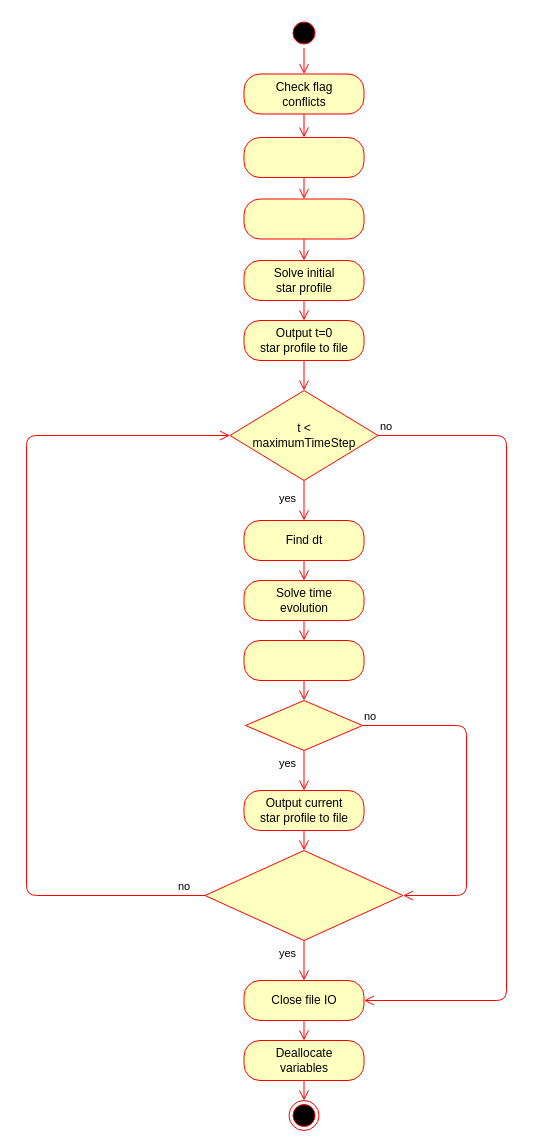
This 534x1148 diagram has some shape labels left out. The box of each missing label's shape, as (x1, y1, x2, y2) in pixels:
Add dt: (243, 640, 364, 680)
Allocate memory to variables: (243, 136, 364, 178)
Open file IO: (243, 198, 364, 239)
Output: (244, 700, 362, 750)
t >= maximumSimulationTime: (204, 850, 403, 940)
